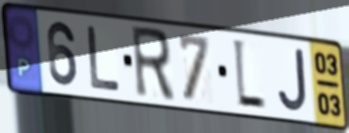6: (44, 19, 80, 89)
7: (177, 32, 213, 105)
J: (276, 46, 310, 115)
L: (230, 35, 268, 114), (84, 23, 123, 93)
R: (129, 24, 178, 105)
